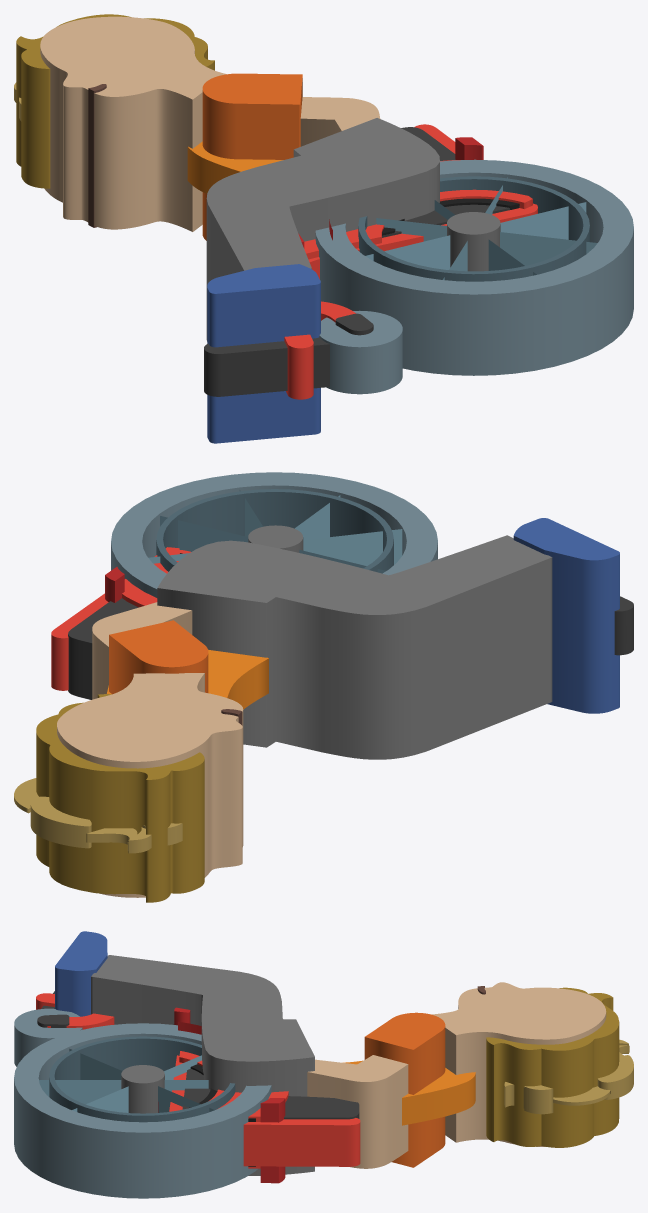
File: emoji_u1f9d1_1f3fc_200d_1f9bd.glb
3 views of the same model, one above another, from view 1: azimuth 30°, elevation 25°; view 2: azimuth 150°, elevation 25°; view 3: azimuth 270°, elevation 25° (orthographic). The views are drawn at different scales.
Parts seen in each view (by area): view 1: emoji_u1f9d1_1f3fc_200d_1f9bd; view 2: emoji_u1f9d1_1f3fc_200d_1f9bd; view 3: emoji_u1f9d1_1f3fc_200d_1f9bd.
Boxes of the visible parts, box(x1,y1,x2,y2) form: emoji_u1f9d1_1f3fc_200d_1f9bd: box(14, 14, 633, 443); emoji_u1f9d1_1f3fc_200d_1f9bd: box(14, 472, 633, 902); emoji_u1f9d1_1f3fc_200d_1f9bd: box(14, 931, 633, 1198).
Size of the model in its own units: 0.0219 by 0.007 by 0.0324.
